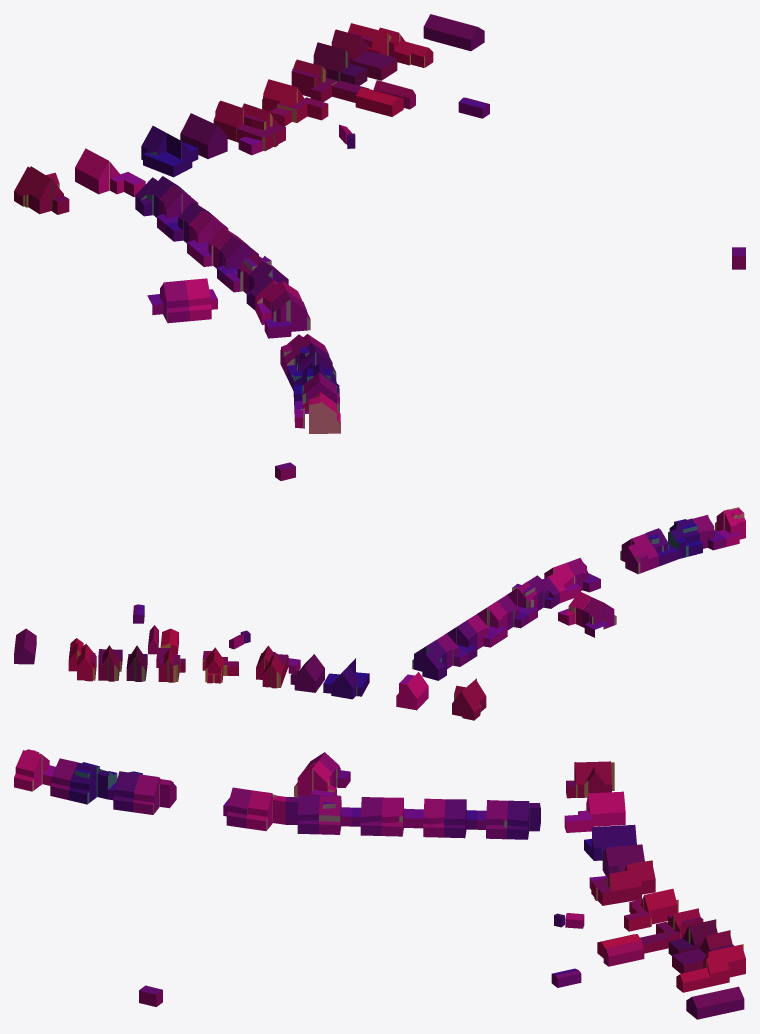
The model's file is buildings_13_7.glb.
The picture shows the model from 3 angles, top to bottom: view 1: azimuth 30°, elevation 25°; view 2: azimuth 150°, elevation 25°; view 3: azimuth 270°, elevation 25°; orthographic projection. The views are drawn at different scales.
Visible parts, largest first — view 1: buildings_13_7; view 2: buildings_13_7; view 3: buildings_13_7.
Part boxes in pixels (x1,y1,x2,y2): buildings_13_7: (14, 14, 745, 433); buildings_13_7: (14, 462, 745, 720); buildings_13_7: (14, 749, 745, 1019).
Bounding box in the file's own units: 164 × 9.87 × 207.
